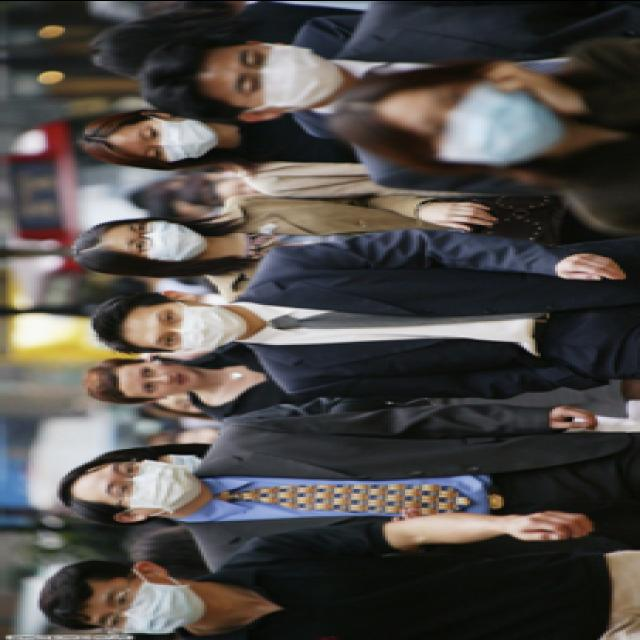mask: (411, 76, 566, 162), (229, 40, 343, 110), (88, 579, 202, 634), (96, 454, 198, 514), (144, 298, 240, 350), (133, 116, 218, 162), (116, 218, 206, 260)
no_mask: (130, 360, 196, 395)
